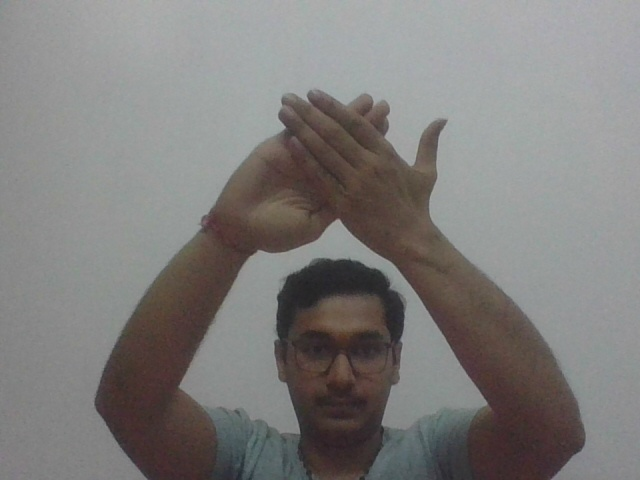H: (227, 86, 451, 248)
